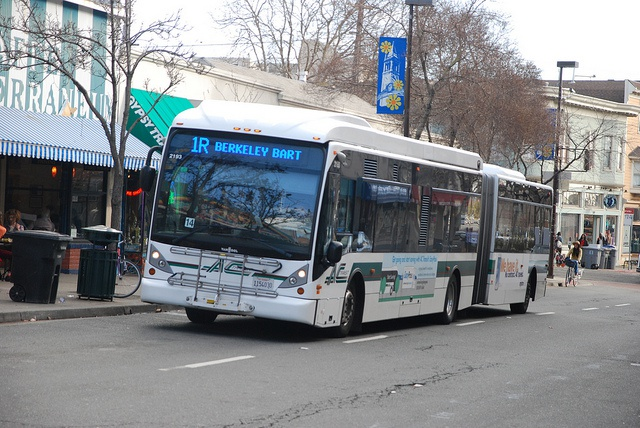non-vehicle: (115, 237, 141, 297), (565, 265, 582, 286)
